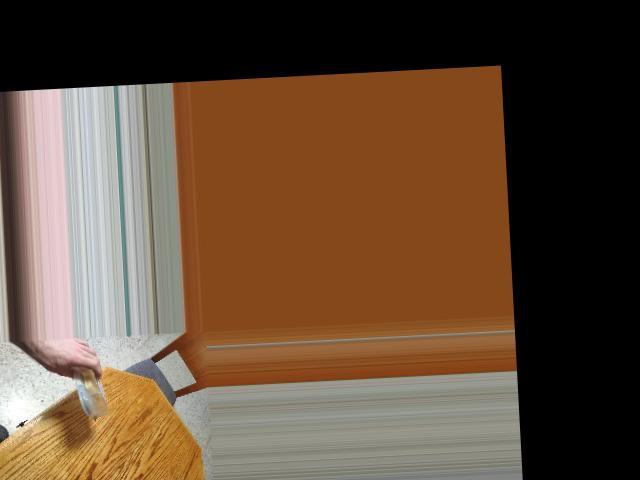cheese: (63, 365, 109, 414)
